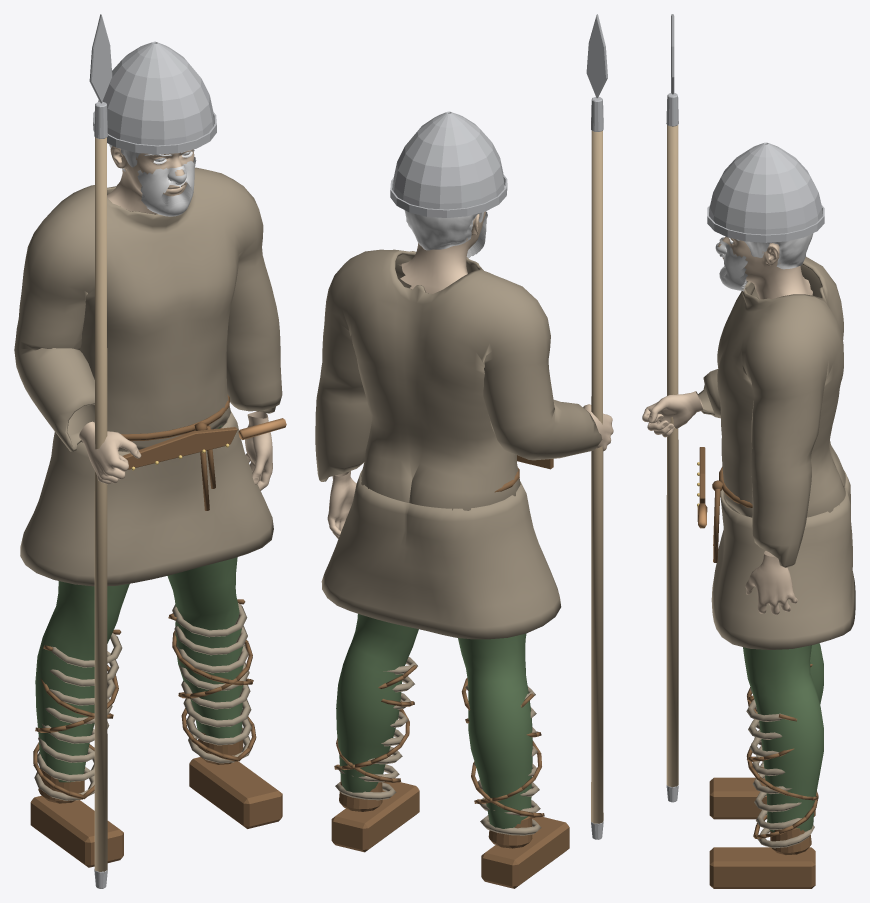
Rendered from SM_English_Tier1.fbx.
The picture shows the model from 3 angles, left to right: view 1: azimuth 30°, elevation 25°; view 2: azimuth 150°, elevation 25°; view 3: azimuth 270°, elevation 25°; orthographic projection. The views are drawn at different scales.
Parts seen in each view (by area): view 1: Coarse Wool Tunic, Wool Hose, Iron Conical Cap, Spear Shaft (Ash), Turnshoes, Winingas, Tier 1 Soldier, Cross-Garters, Beard.001, Seax Sheath, Spearhead, Rope Belt; view 2: Coarse Wool Tunic, Wool Hose, Iron Conical Cap, Spear Shaft (Ash), Turnshoes, Tier 1 Soldier, Winingas, Cross-Garters, Hair.001, Spearhead; view 3: Coarse Wool Tunic, Wool Hose, Iron Conical Cap, Spear Shaft (Ash), Turnshoes, Tier 1 Soldier, Winingas, Cross-Garters, Hair.001, Beard.001, Spearhead, Rope Belt.
Part boxes in pixels (box(x1,y1,x2,y2)): Coarse Wool Tunic: box(14, 167, 282, 586); Wool Hose: box(35, 425, 243, 782); Iron Conical Cap: box(93, 41, 216, 154); Spear Shaft (Ash): box(94, 137, 107, 873); Turnshoes: box(30, 727, 282, 867); Winingas: box(34, 603, 252, 800); Tier 1 Soldier: box(79, 146, 272, 490); Cross-Garters: box(33, 599, 256, 799); Beard.001: box(137, 157, 196, 216); Seax Sheath: box(122, 427, 237, 469); Spearhead: box(89, 14, 112, 888); Rope Belt: box(121, 394, 229, 510); Coarse Wool Tunic: box(315, 249, 602, 639); Wool Hose: box(336, 614, 532, 828); Iron Conical Cap: box(390, 111, 507, 217); Spear Shaft (Ash): box(591, 131, 603, 824); Turnshoes: box(331, 779, 569, 888); Tier 1 Soldier: box(327, 211, 613, 538); Winingas: box(335, 657, 541, 835); Cross-Garters: box(334, 665, 544, 818); Hair.001: box(404, 210, 483, 250); Spearhead: box(586, 14, 607, 839); Coarse Wool Tunic: box(698, 256, 855, 649); Wool Hose: box(743, 643, 823, 832); Iron Conical Cap: box(707, 142, 824, 242); Spear Shaft (Ash): box(666, 125, 678, 788); Turnshoes: box(709, 777, 815, 888); Tier 1 Soldier: box(642, 236, 812, 615); Winingas: box(746, 687, 814, 848); Cross-Garters: box(746, 664, 818, 839); Hair.001: box(744, 233, 813, 269); Beard.001: box(715, 237, 747, 291); Spearhead: box(666, 14, 678, 802); Rope Belt: box(712, 467, 752, 562).
Size of the model in its own units: 0.6565 by 0.5238 by 2.13.
